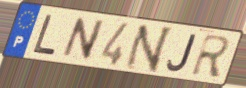4: (98, 21, 131, 68)
J: (166, 34, 198, 74)
L: (31, 13, 59, 57)
N: (121, 25, 176, 75), (59, 16, 108, 62)
R: (189, 32, 234, 79)
